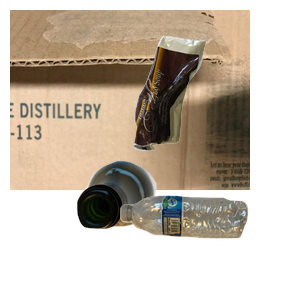cardboard: (10, 10, 250, 190)
glass: (74, 158, 223, 300)
plastic: (118, 193, 300, 300)
trash: (131, 34, 300, 177)
